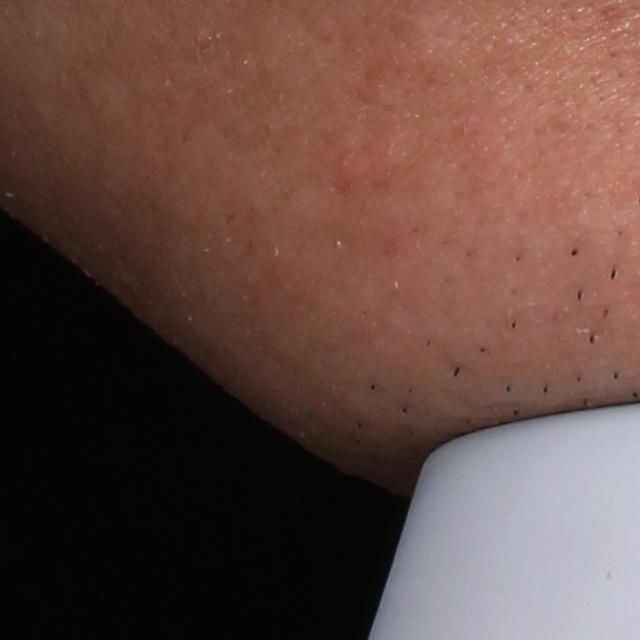hypertrophic_scar: (391, 2, 468, 77)
